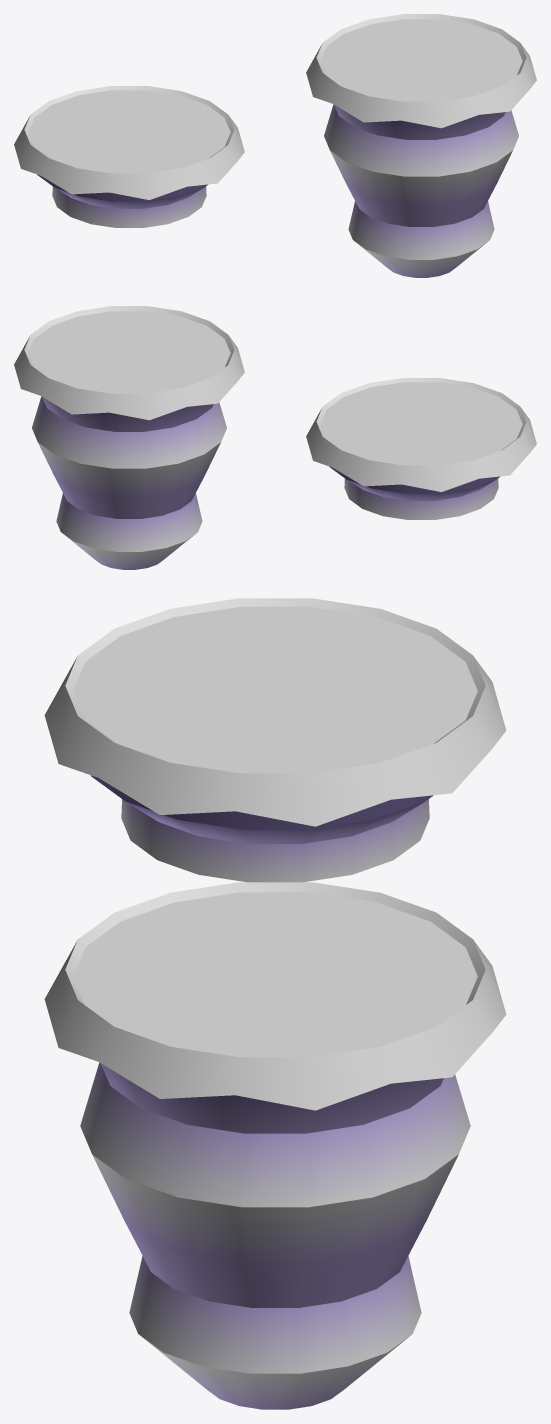
File: ruins_islands.glb
3 renders of one model, top to bottom at view 1: azimuth 30°, elevation 25°; view 2: azimuth 150°, elevation 25°; view 3: azimuth 270°, elevation 25°, orthographic. The views are drawn at different scales.
Parts seen in each view (by area): view 1: Island Tall, Island Short; view 2: Island Tall, Island Short; view 3: Island Tall, Island Short.
Part boxes in pixels (x1,y1,x2,y2): Island Tall: (306,14,536,277); Island Short: (14,86,244,227); Island Tall: (14,306,244,569); Island Short: (306,378,536,519); Island Tall: (44,882,506,1409); Island Short: (44,598,506,882).
Bounding box in the file's own units: 16.74 × 6.7 × 6.85.
